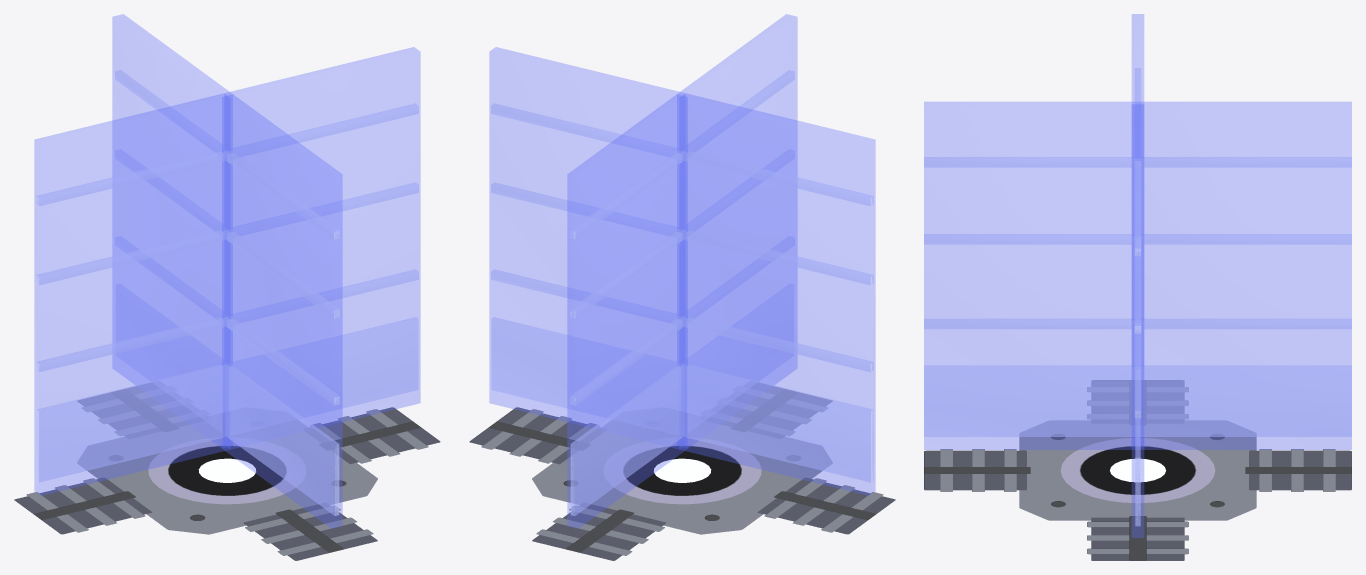
Rendered from GAFSDF.glb.
3 views of the same model, side by side, from view 1: azimuth 30°, elevation 25°; view 2: azimuth 150°, elevation 25°; view 3: azimuth 270°, elevation 25° (orthographic). The views are drawn at different scales.
Visible parts, largest first — view 1: FieldXN, FieldXP, FieldZP, FieldZN, Post, ArmXN, ArmZP, ArmXP, ArmZN; view 2: FieldXN, FieldXP, FieldZN, FieldZP, Post, ArmXN, ArmZN, ArmXP, ArmZP; view 3: FieldZN, FieldZP, Post, FieldXP, ArmZN, ArmZP, ArmXP, ArmXN, FieldXN.
Boxes of the visible parts, x1,y1,x2,y2 form: FieldXN: (34, 93, 230, 495); FieldXP: (225, 47, 420, 448); FieldZP: (222, 94, 342, 528); FieldZN: (112, 14, 232, 447); Post: (77, 420, 377, 534); ArmXN: (14, 477, 152, 534); ArmZP: (243, 503, 377, 560); ArmXP: (303, 407, 440, 464); ArmZN: (77, 383, 203, 438); FieldXN: (679, 93, 875, 495); FieldXP: (489, 47, 684, 448); FieldZN: (567, 94, 687, 528); FieldZP: (677, 14, 797, 447); Post: (532, 420, 832, 534); ArmXN: (757, 477, 895, 534); ArmZN: (532, 503, 666, 560); ArmXP: (469, 407, 606, 464); ArmZP: (706, 383, 832, 438); FieldZN: (1138, 102, 1351, 449); FieldZP: (924, 102, 1137, 449); Post: (1019, 420, 1256, 520); FieldXP: (1132, 104, 1143, 537); ArmZN: (1245, 449, 1351, 491); ArmZP: (924, 449, 1030, 491); ArmXP: (1087, 516, 1188, 560); ArmXN: (1087, 380, 1188, 424); FieldXN: (1132, 14, 1143, 156).
Bounding box in the file's own units: 1.01 × 0.95 × 1.01.
